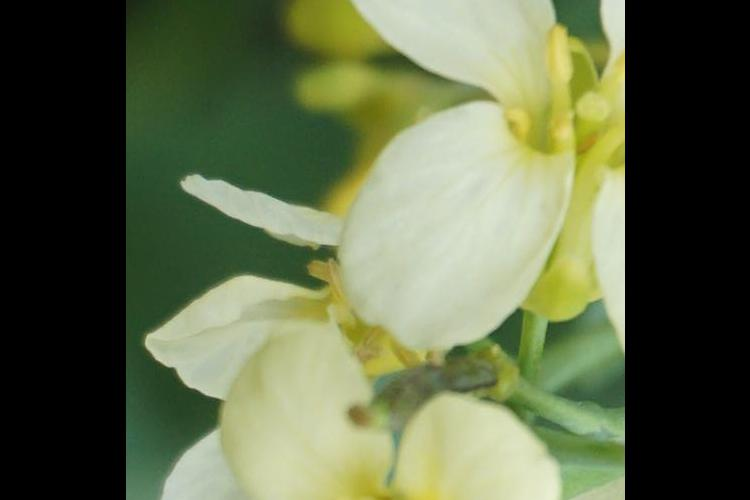white: (245, 329, 562, 500)
